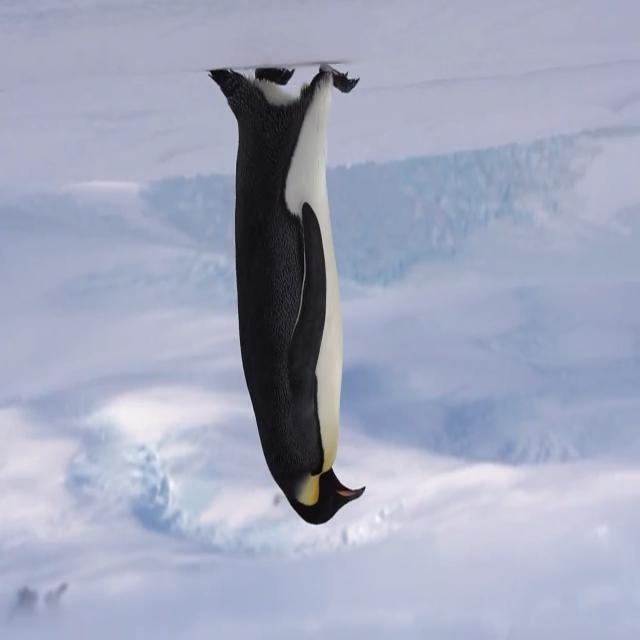penguin: (207, 61, 367, 526)
